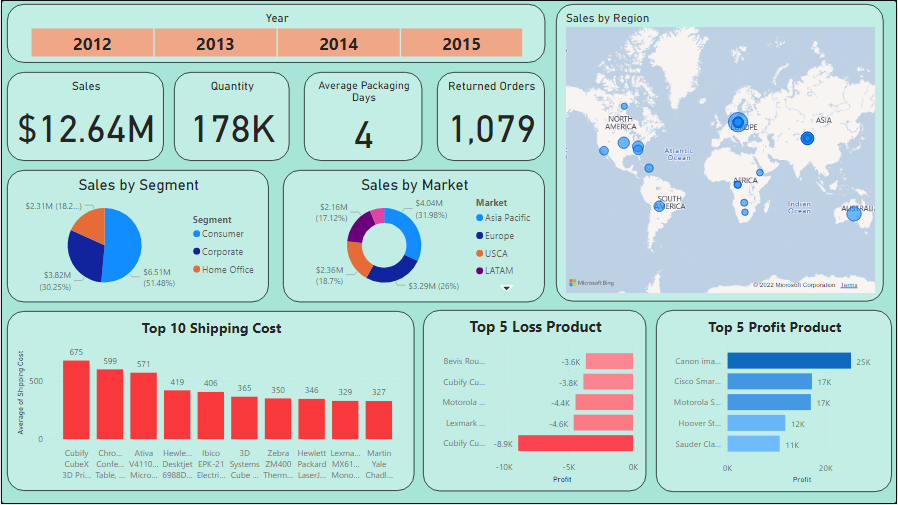

This screenshot's page, from the dashboard's own definition file:
{"tool":"powerbi","page":{"name":"Page 1","canvas":[1280,720],"ordinal":0},"visuals":[{"type":"card","title":"Sales","fields":{"Values":["Sum(Orders.Sales)"]},"box":[8.3,102.2,224.3,126.6],"z":0},{"type":"card","title":"Quantity","fields":{"Values":["Sum(Orders.Quantity)"]},"box":[247.7,102.2,165.2,126.6],"z":1000},{"type":"card","title":"Average Packaging Days","fields":{"Values":["Avg(Orders.Packaging time)"]},"box":[433.5,102.2,169.3,126.6],"z":2000},{"type":"card","title":"Returned Orders","fields":{"Values":["Sum(Returns.Return order)"]},"box":[623.5,102.2,154.2,126.6],"z":3000},{"type":"slicer","title":"Year","fields":{"Values":["Orders.Order Date.Variation.Date Hierarchy.Year"]},"box":[8.3,5.5,769.4,84],"z":4000},{"type":"clusteredBarChart","title":"Top 5 Profit Product","fields":{"Y":["Sum(Orders.Profit)"],"Category":["Orders.Product Name"]},"box":[935.9,442.2,337.2,260.1],"z":5000},{"type":"clusteredBarChart","title":"Top 5 Loss Product","fields":{"Y":["Sum(Orders.Profit)"],"Category":["Orders.Product Name"]},"box":[602.8,443.6,319.3,258.8],"z":6000},{"type":"pieChart","fields":{"Category":["Orders.Segment"],"Y":["Sum(Orders.Sales)"]},"box":[8.3,242.2,374.4,188.6],"z":7000},{"type":"donutChart","fields":{"Y":["Sum(Orders.Sales)"],"Category":["Orders.Market"]},"box":[403.3,242.2,374.4,188.6],"z":8000},{"type":"columnChart","title":"Top 10 Shipping Cost","fields":{"Category":["Orders.Product Name"],"Y":["Avg(Orders.Shipping Cost)"]},"box":[8.3,444.6,582.2,257.4],"z":9000},{"type":"map","fields":{"Category":["Orders.Region"],"Size":["Sum(Orders.Sales)"]},"box":[792.8,5.5,468,425.3],"z":10000}]}

Visuals, with their boxes in screenshot pixels (x1, y1, x2, y2), scaled from the page's 1280x720 canvas onto the 898x505 screenshot:
"Sales" card: region(6, 72, 163, 160)
"Quantity" card: region(174, 72, 290, 160)
"Average Packaging Days" card: region(304, 72, 423, 160)
"Returned Orders" card: region(437, 72, 546, 160)
"Year" slicer: region(6, 4, 546, 63)
"Top 5 Profit Product" clusteredBarChart: region(657, 310, 893, 493)
"Top 5 Loss Product" clusteredBarChart: region(423, 311, 647, 493)
pieChart - Orders.Segment x Sum(Orders.Sales): region(6, 170, 268, 302)
donutChart - Sum(Orders.Sales) x Orders.Market: region(283, 170, 546, 302)
"Top 10 Shipping Cost" columnChart: region(6, 312, 414, 492)
map - Orders.Region x Sum(Orders.Sales): region(556, 4, 885, 302)
